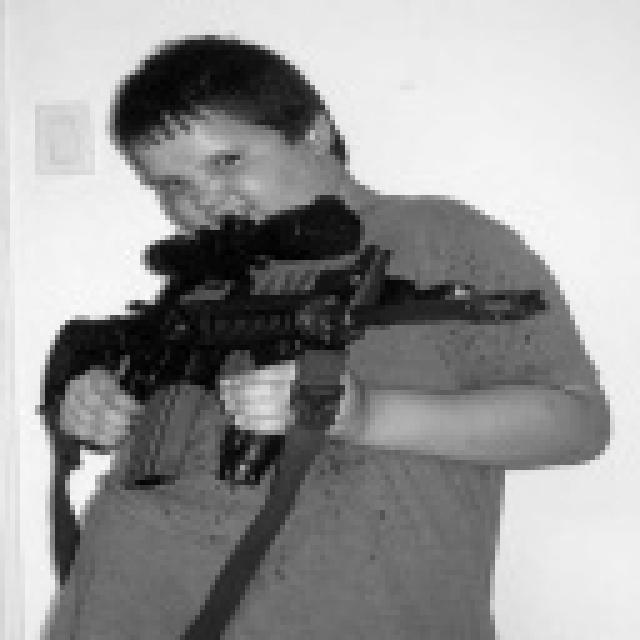Rifle: (0, 177, 550, 640)
